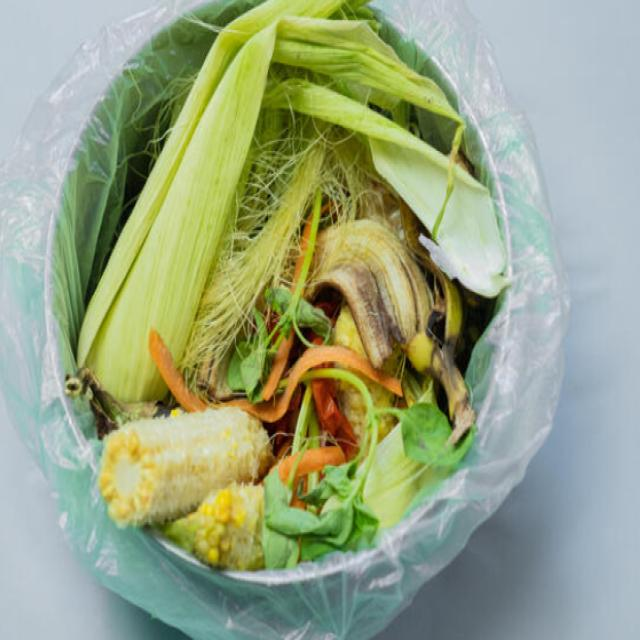paper: (86, 108, 216, 394), (97, 391, 283, 542), (331, 212, 440, 368)
